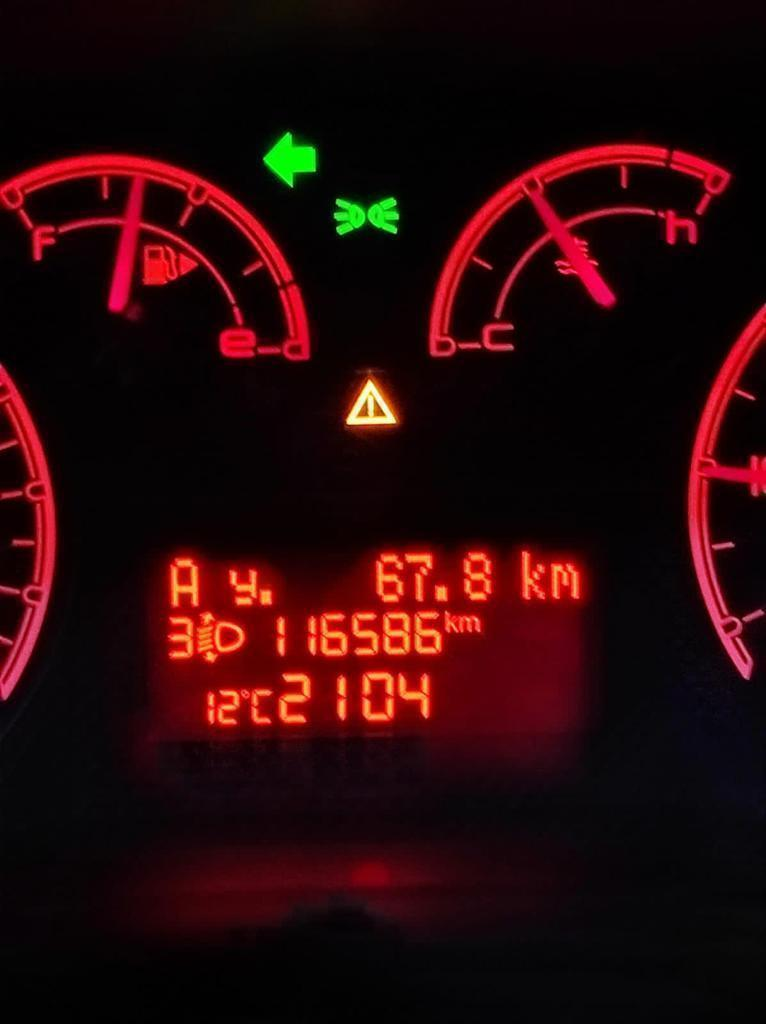,: (432, 583, 448, 603), (259, 585, 273, 606)
0: (358, 669, 395, 724)
1: (326, 670, 353, 722), (266, 613, 293, 659), (296, 612, 317, 656), (198, 686, 216, 726)
2: (275, 670, 314, 726), (217, 687, 239, 727)
3: (164, 612, 193, 663)
4: (396, 669, 434, 722)
5: (349, 608, 379, 656)
6: (373, 550, 404, 605), (319, 607, 349, 658), (413, 609, 442, 656)
7: (405, 550, 432, 604)
8: (459, 547, 497, 603), (380, 609, 411, 657)
X: (163, 553, 200, 608), (517, 547, 547, 602), (224, 565, 258, 608), (547, 559, 581, 601), (250, 687, 274, 725), (458, 611, 480, 634), (443, 607, 458, 635)
odometer: (132, 536, 592, 754)
